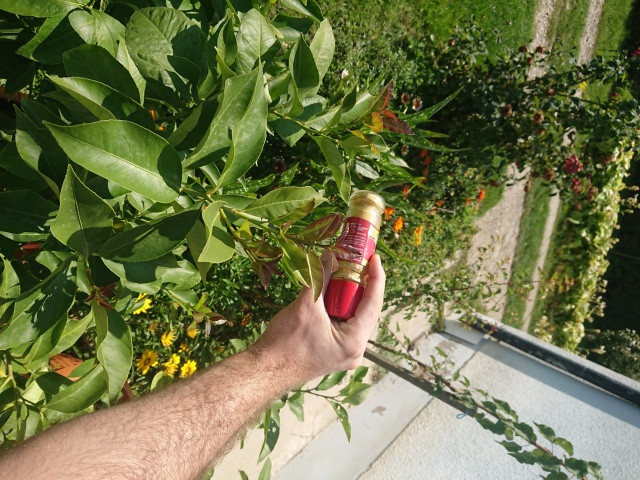Kotanyi Curry Spices Mix 70g: (320, 188, 387, 324)
